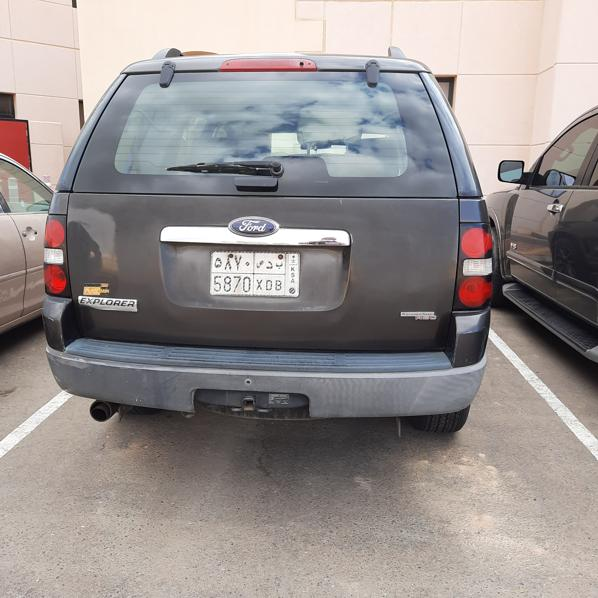numberplate: (211, 251, 300, 296)
